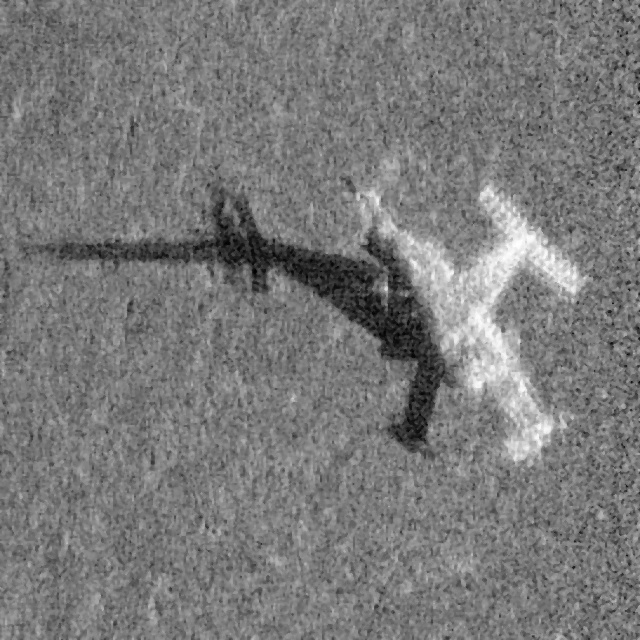Plane: (348, 175, 595, 474)
